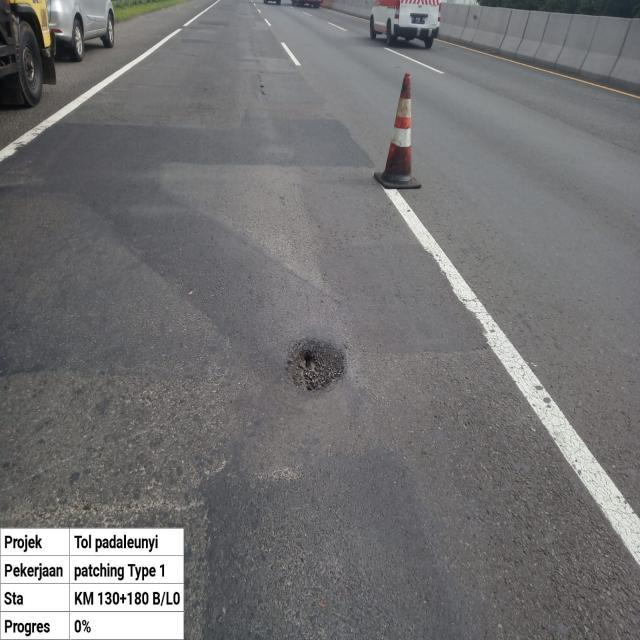Buraco: (280, 336, 349, 396)
